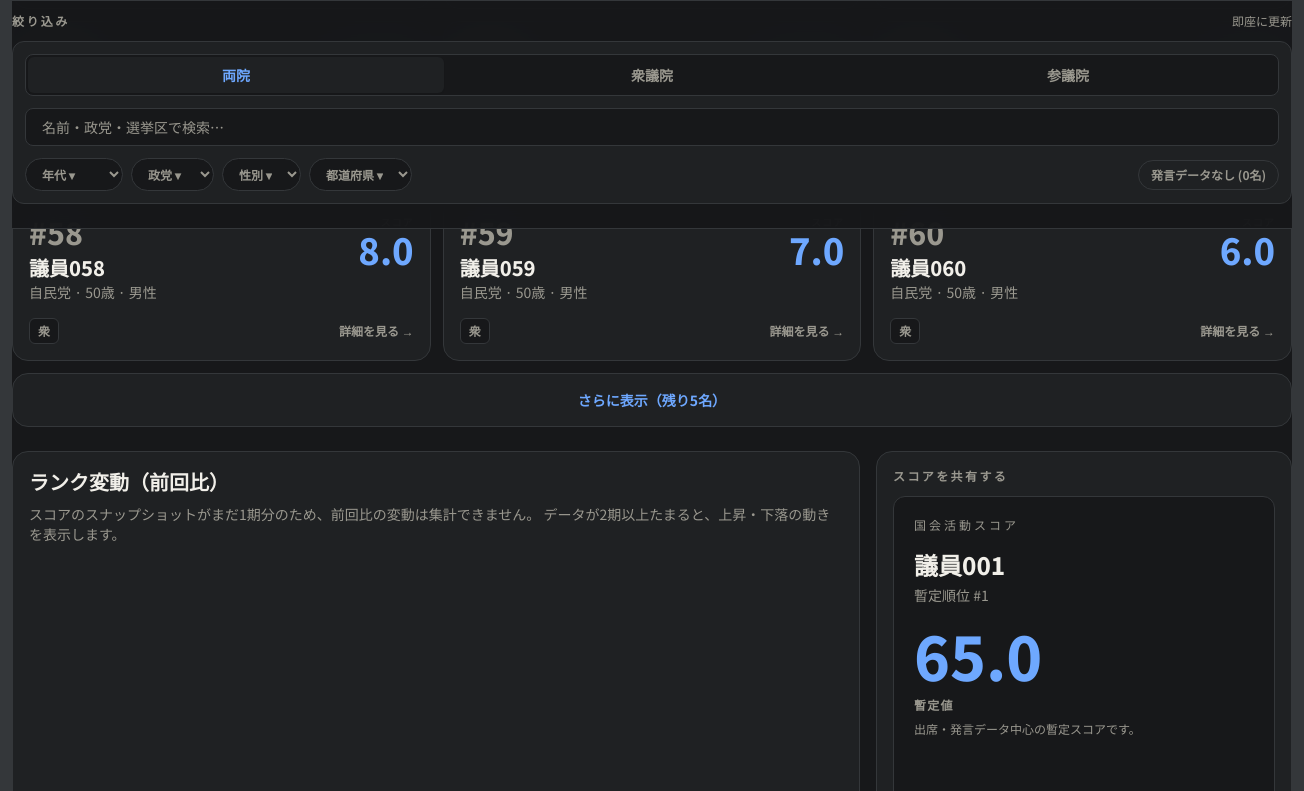
RankingFeed › 段階表示（limit 未指定・全件ページ） › 「さらに表示」ボタン押下で追加表示され、全件表示済みならボタンが消える
(page scrolled)
Click the button "さらに表示（残り5名）" at [652, 400], box [12,373,1292,427]
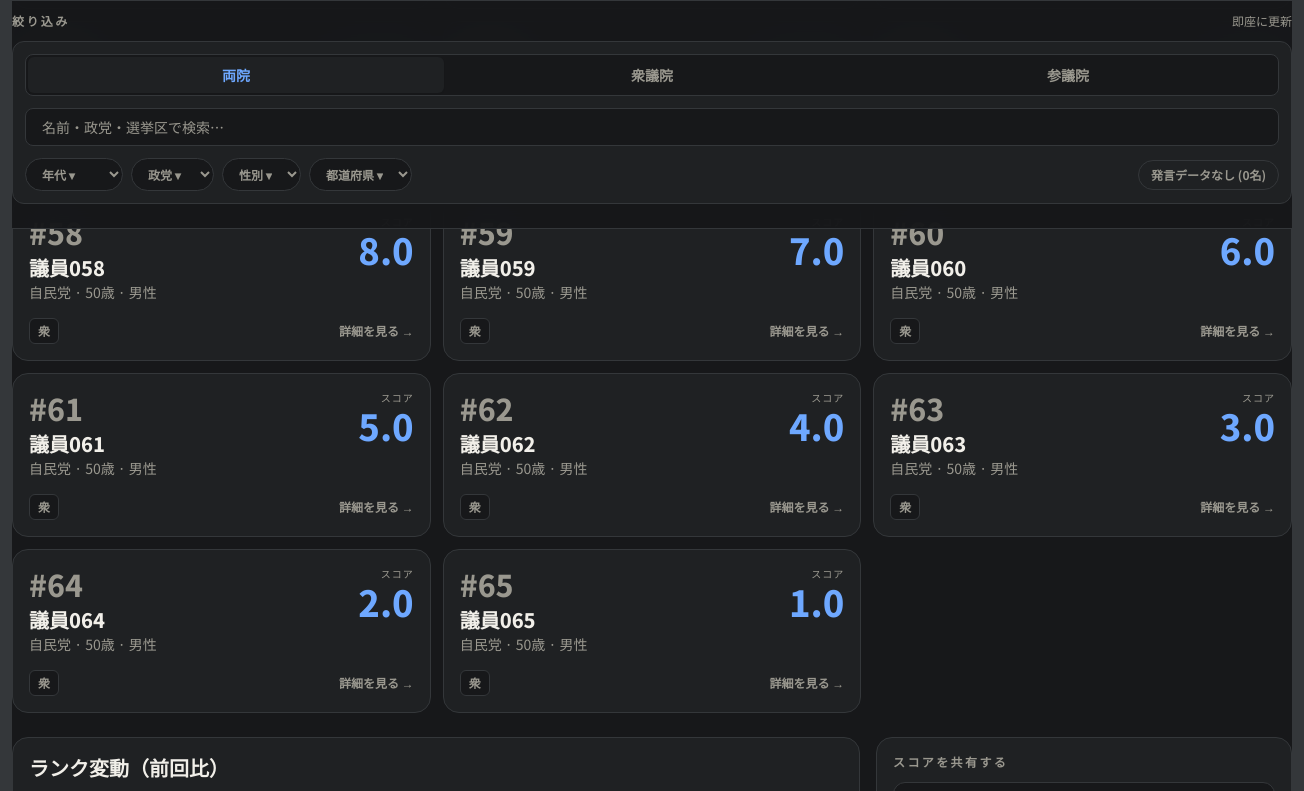
Expected: the text "議員061" is shown, [29,429,105,458]
Expected: the text "議員065" is shown, [460,605,536,634]
Expected: the button "さらに表示" is gone
